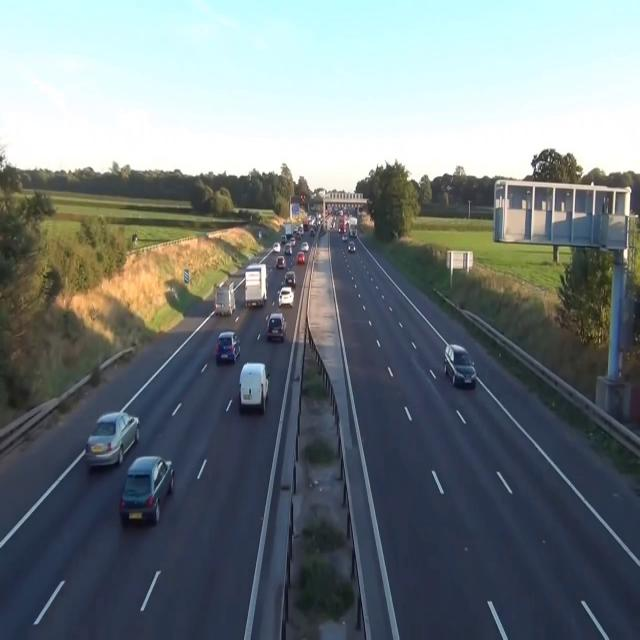belum terisi: (118, 443, 180, 533), (76, 399, 144, 471), (440, 336, 481, 400), (237, 362, 275, 422), (210, 271, 238, 325), (214, 326, 244, 373), (241, 262, 267, 311), (265, 304, 287, 348), (276, 288, 296, 312)
